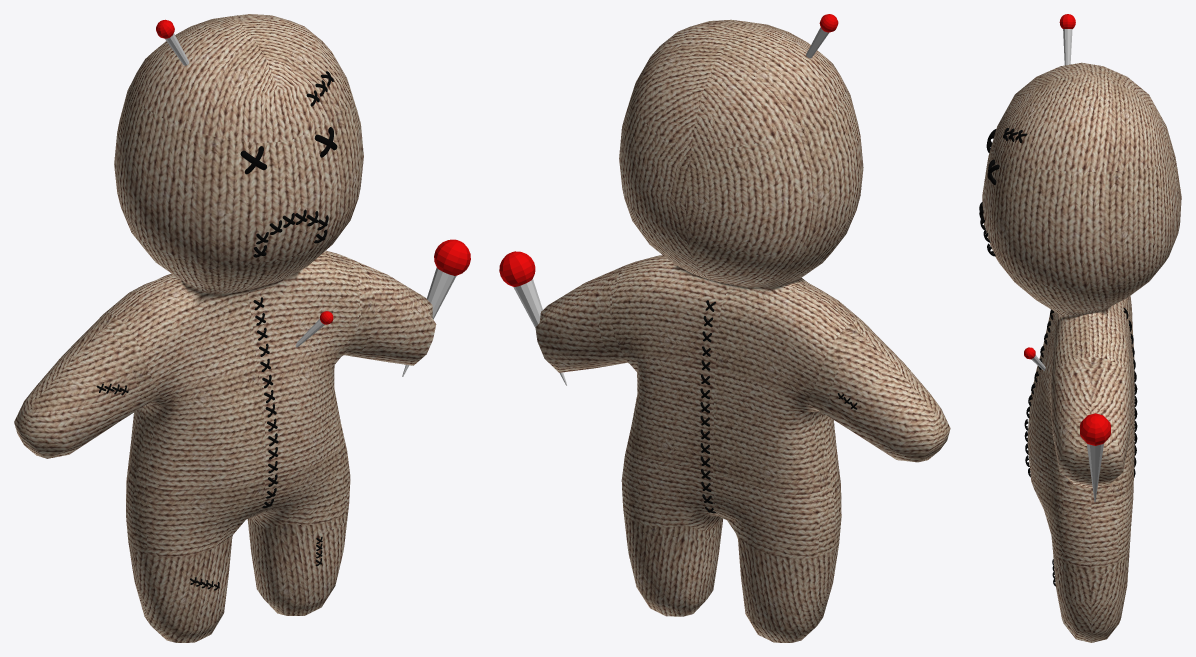
The model's file is BonecoVoodoo_T-POSE.fbx.
3 views of the same model, side by side, from view 1: azimuth 30°, elevation 25°; view 2: azimuth 150°, elevation 25°; view 3: azimuth 270°, elevation 25° (orthographic). The views are drawn at different scales.
Visible parts, largest first — view 1: Voodoo, pCylinder2; view 2: Voodoo, pCylinder2; view 3: Voodoo, pCylinder2 (×2).
Part boxes in pixels (x1,y1,x2,y2): Voodoo: (14,14,436,642); pCylinder2: (402,239,470,376); Voodoo: (535,19,950,642); pCylinder2: (499,251,566,385); Voodoo: (982,62,1181,642); pCylinder2 (×2): (1059,14,1110,502).
Bounding box in the file's own units: 11.15 × 15.07 × 4.92.
5 materials, 1 textured.
